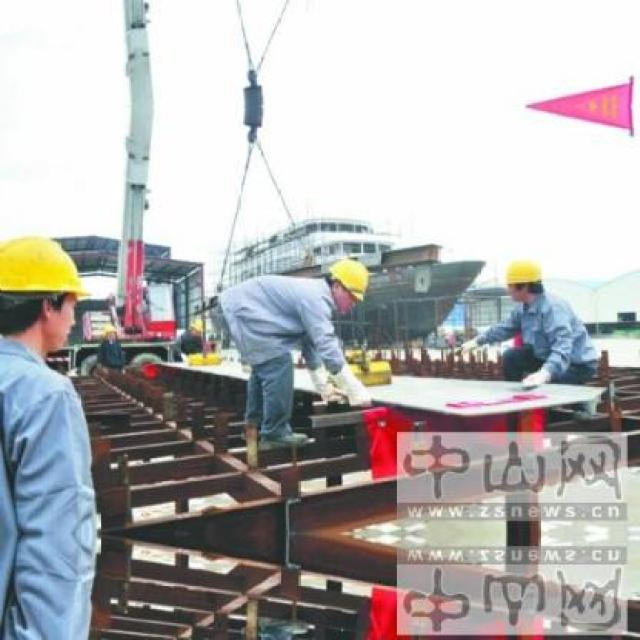helmet: (0, 224, 94, 354), (323, 252, 369, 305), (501, 251, 545, 303), (190, 316, 204, 336)
